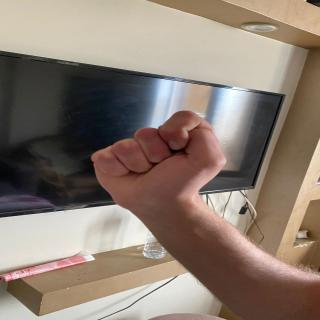FAA: (89, 110, 243, 209)
